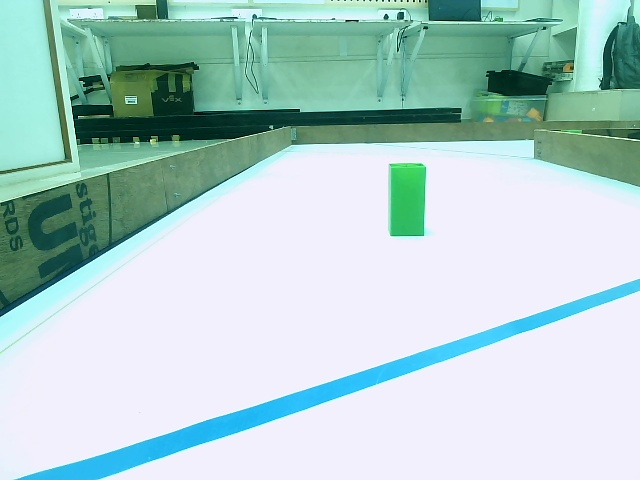green: (389, 163, 425, 237)
